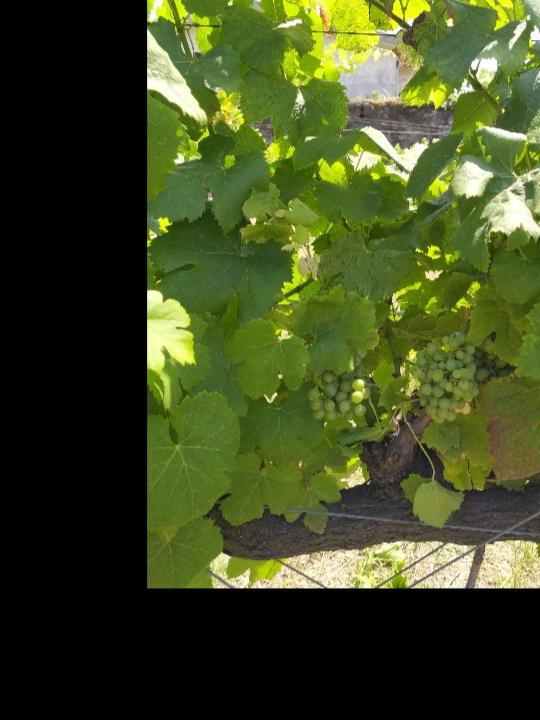grape: (406, 326, 509, 427), (304, 364, 375, 427)
